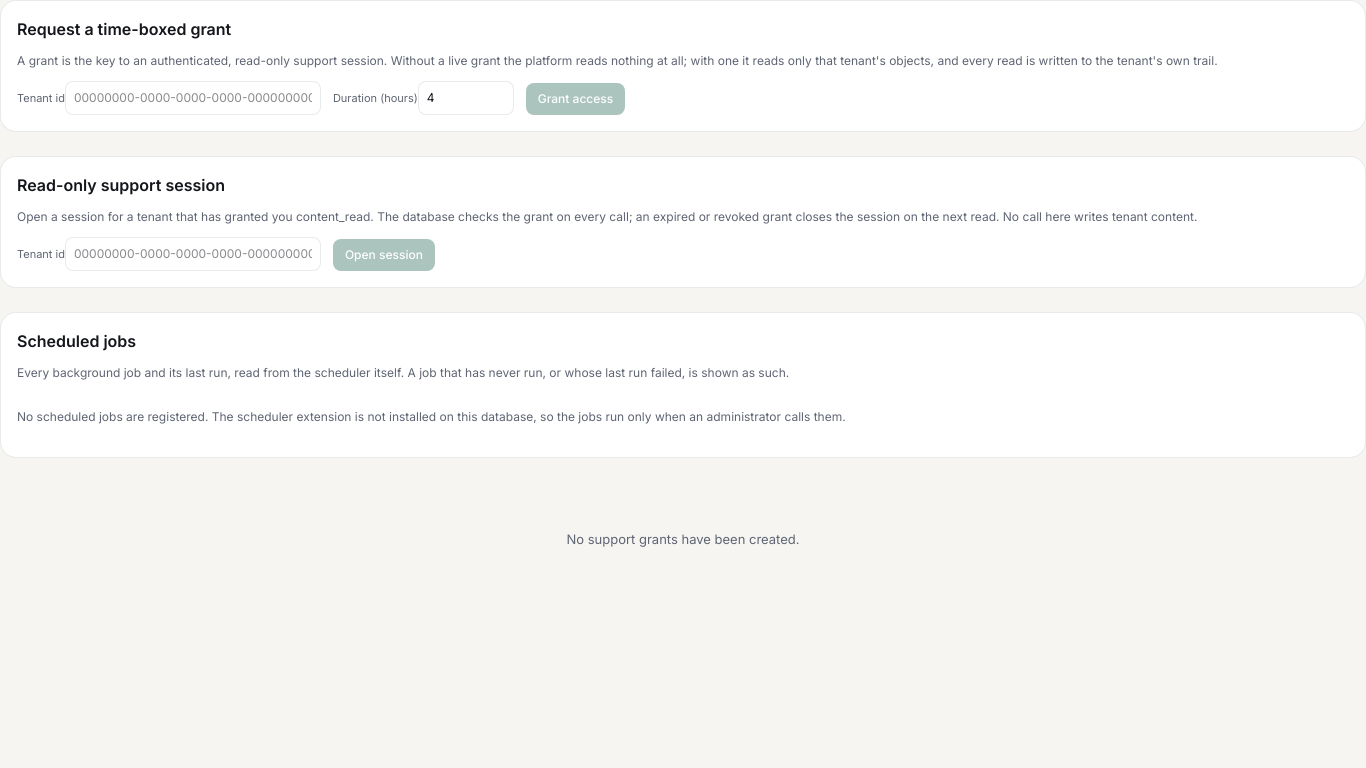
Test: SA-02 support session (C2.9) › keeps the session closed when no live grant exists
The image size is (1366, 768).
Expected: the element with test id "superadmin-support-session" is shown, [0,156,1365,288]
Type "a0000000-0000-0000-0000-000000000001" into the field with test id "superadmin-support-session-org" at (193, 254), box [65,237,321,271]
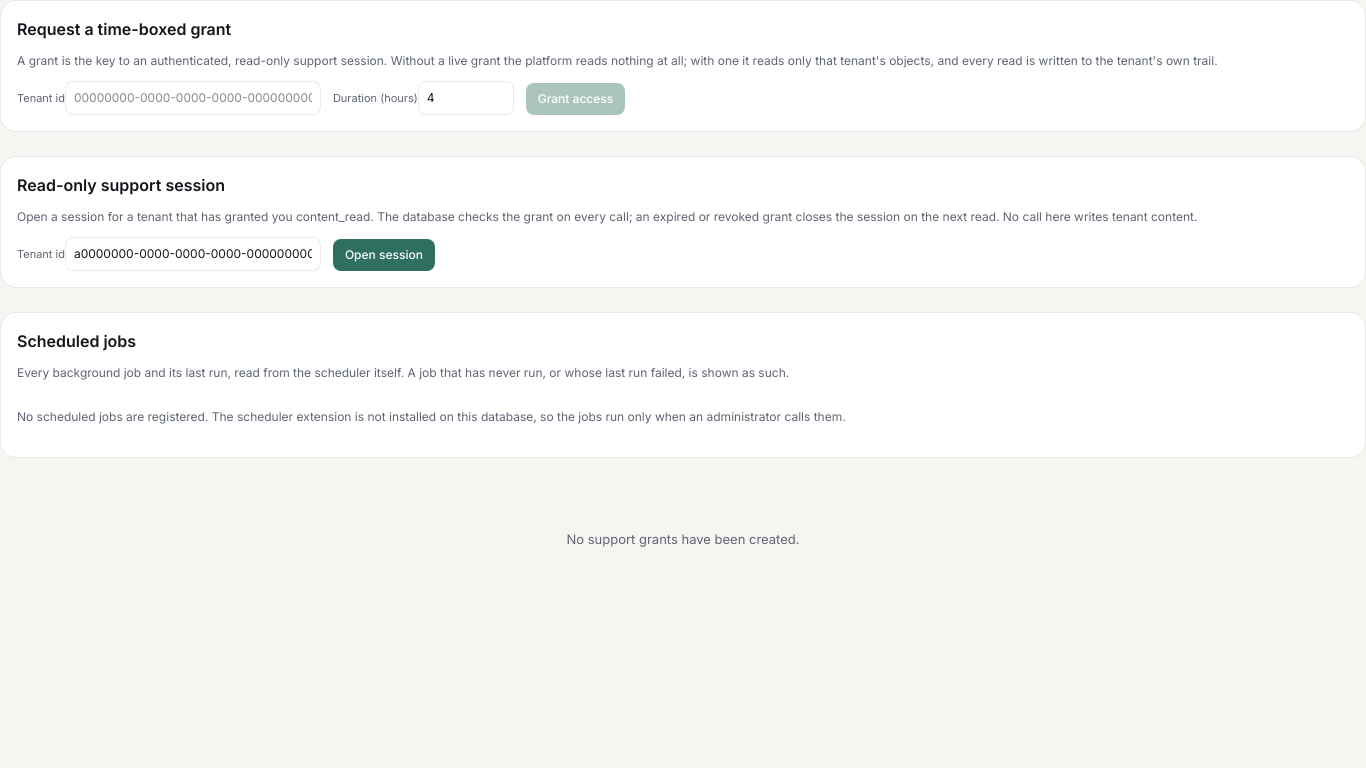
Click the button with test id "superadmin-support-session-open" at (384, 255), box [333,239,435,271]
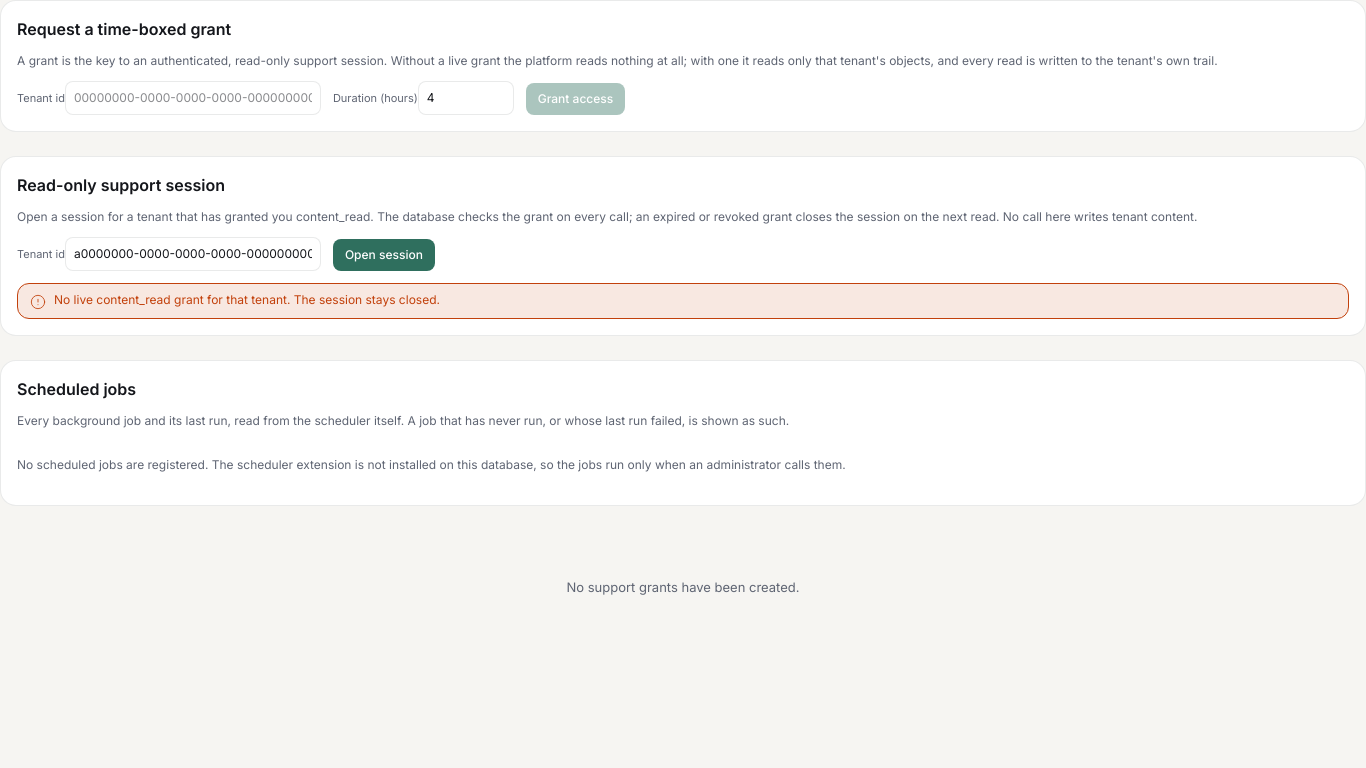
Expected: the message "No live content_read grant for that tenant. The session stays closed." is shown, [17,283,1349,319]
Expected: the message with test id "superadmin-support-session-error" shows "stays closed", [54,292,440,307]
